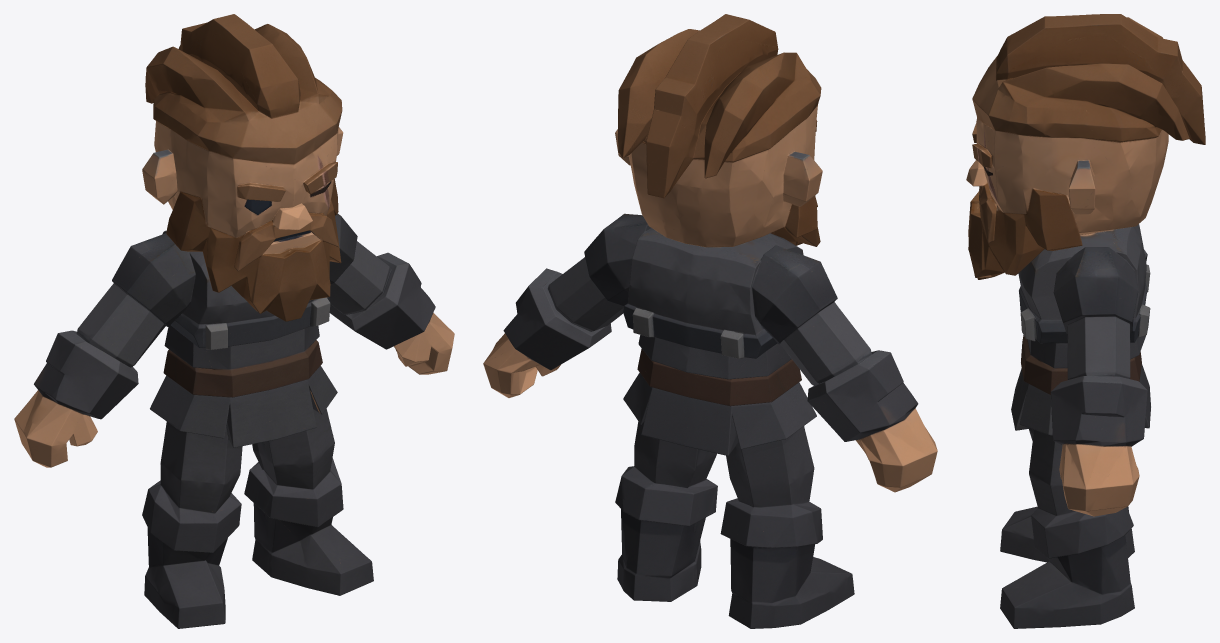
Rendered from MeshyInspect0.fbx.
3 renders of one model, left to right at view 1: azimuth 30°, elevation 25°; view 2: azimuth 150°, elevation 25°; view 3: azimuth 270°, elevation 25°, orthographic. The views are drawn at different scales.
Parts seen in each view (by area): view 1: Mesh_0; view 2: Mesh_0; view 3: Mesh_0.
Boxes of the visible parts, x1,y1,x2,y2 form: Mesh_0: (14, 14, 454, 628); Mesh_0: (483, 14, 937, 628); Mesh_0: (966, 14, 1205, 628).
Size of the model in its own units: 155 by 190 by 73.5.
Materials: 1 (1 with a texture image).
